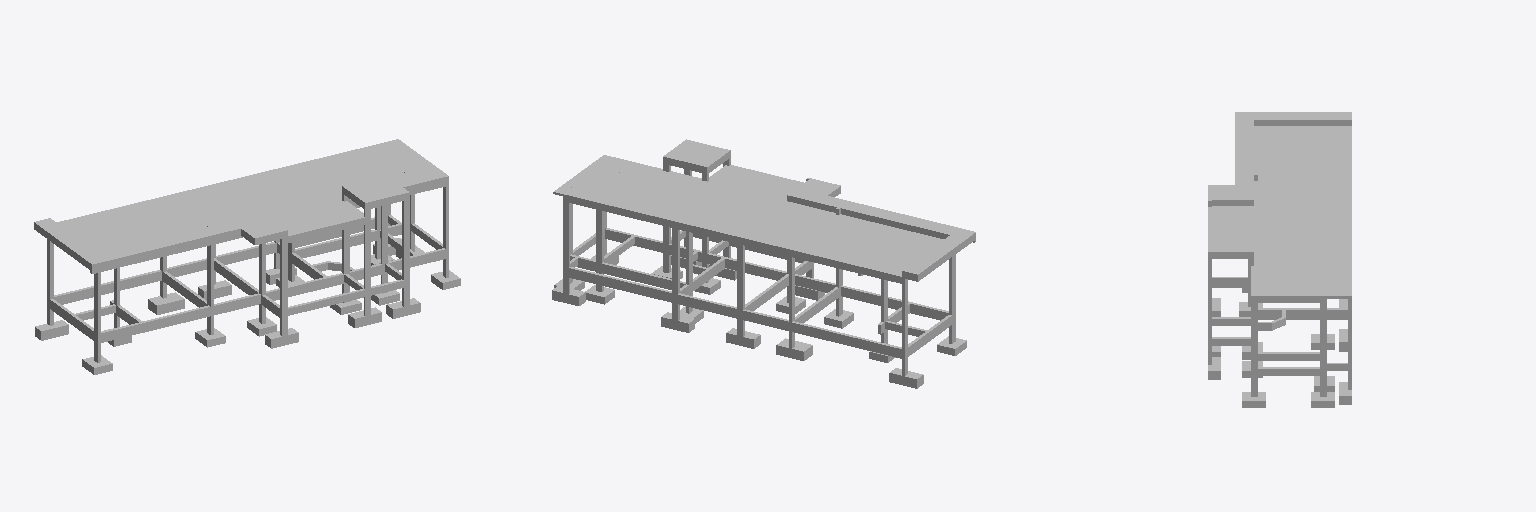
File: EST.obj
3 views of the same model, side by side, from view 1: azimuth 30°, elevation 25°; view 2: azimuth 150°, elevation 25°; view 3: azimuth 270°, elevation 25° (orthographic).
Parts seen in each view (by area): view 1: mesh_1, mesh_2, mesh_0_instance_82, mesh_0_instance_56, mesh_0_instance_43, mesh_0_instance_59, mesh_0_instance_54, mesh_0_instance_62, mesh_0_instance_84, mesh_0_instance_25, mesh_0_instance_27, mesh_0_instance_41 (+3 smaller); view 2: mesh_1, mesh_2, mesh_0_instance_43, mesh_0_instance_40, mesh_0_instance_56, mesh_0_instance_68, mesh_0_instance_71, mesh_0_instance_76, mesh_0_instance_54, mesh_0_instance_59, mesh_0_instance_41, mesh_0_instance_57 (+5 smaller); view 3: mesh_1, mesh_2, mesh_0_instance_47, mesh_0_instance_87, mesh_0_instance_50, mesh_0_instance_51.
Boxes of the visible parts, x1,y1,x2,y2 form: mesh_1: [39, 139, 443, 262]; mesh_2: [35, 238, 460, 374]; mesh_0_instance_82: [90, 220, 267, 273]; mesh_0_instance_56: [101, 305, 210, 342]; mesh_0_instance_43: [54, 270, 161, 304]; mesh_0_instance_59: [266, 273, 343, 300]; mesh_0_instance_54: [295, 230, 376, 257]; mesh_0_instance_62: [288, 289, 364, 315]; mesh_0_instance_84: [288, 216, 364, 242]; mesh_0_instance_25: [280, 229, 287, 309]; mesh_0_instance_27: [402, 207, 409, 279]; mesh_0_instance_41: [216, 242, 275, 264]; mesh_1: [553, 142, 970, 274]; mesh_2: [552, 253, 966, 388]; mesh_0_instance_43: [792, 321, 901, 358]; mesh_0_instance_40: [569, 267, 671, 302]; mesh_0_instance_56: [841, 285, 948, 320]; mesh_0_instance_68: [792, 249, 901, 283]; mesh_0_instance_71: [569, 194, 673, 227]; mesh_0_instance_76: [841, 207, 951, 238]; mesh_0_instance_54: [602, 262, 685, 289]; mesh_0_instance_59: [707, 253, 786, 280]; mesh_0_instance_41: [678, 293, 736, 318]; mesh_0_instance_57: [605, 228, 662, 252]; mesh_1: [1212, 114, 1351, 298]; mesh_2: [1208, 288, 1351, 407]; mesh_0_instance_47: [1258, 308, 1319, 319]; mesh_0_instance_87: [1258, 119, 1344, 125]; mesh_0_instance_50: [1258, 352, 1319, 360]; mesh_0_instance_51: [1258, 367, 1319, 375].
Size of the model in its own units: 16.24 by 5.12 by 5.45.